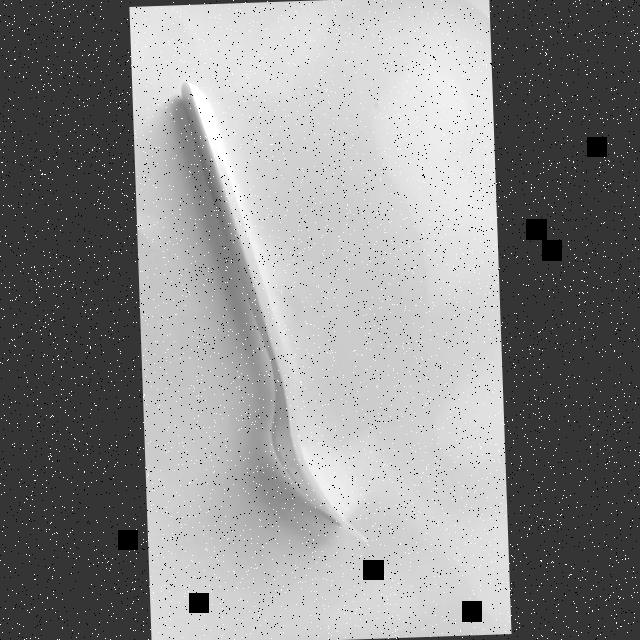plastic_cultery: (172, 61, 399, 554)
